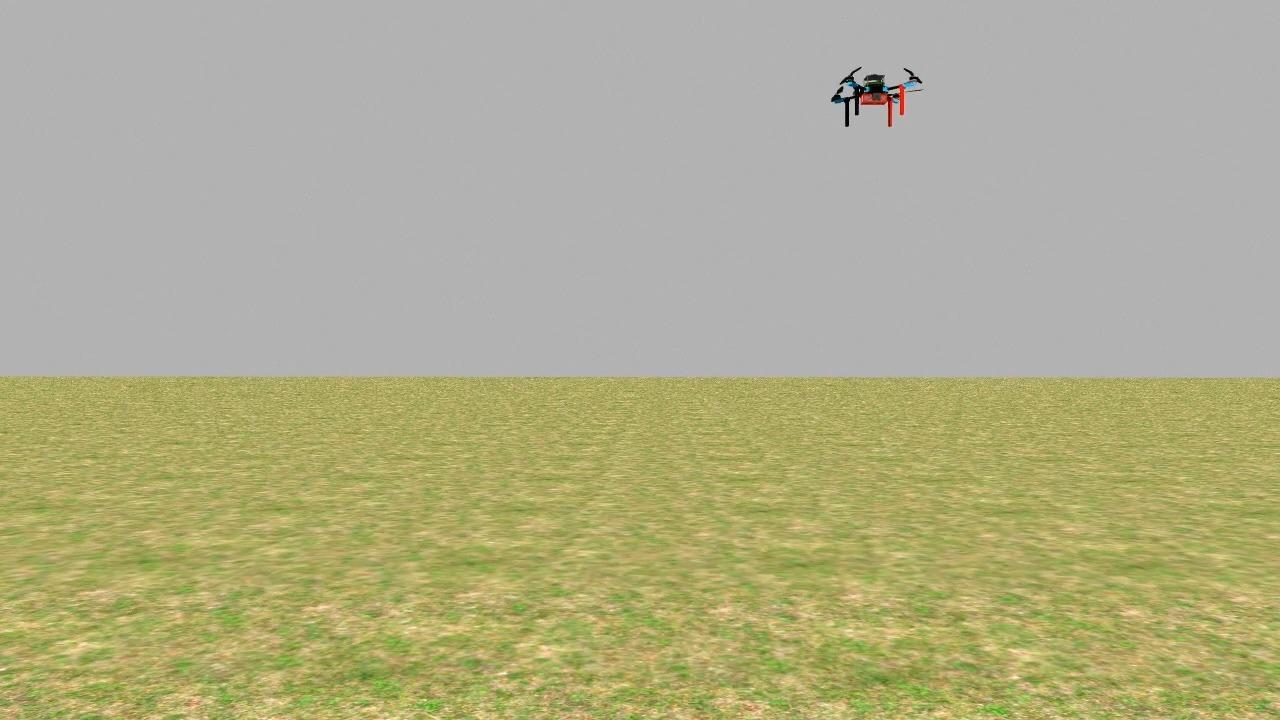UAV: (822, 60, 929, 129)
